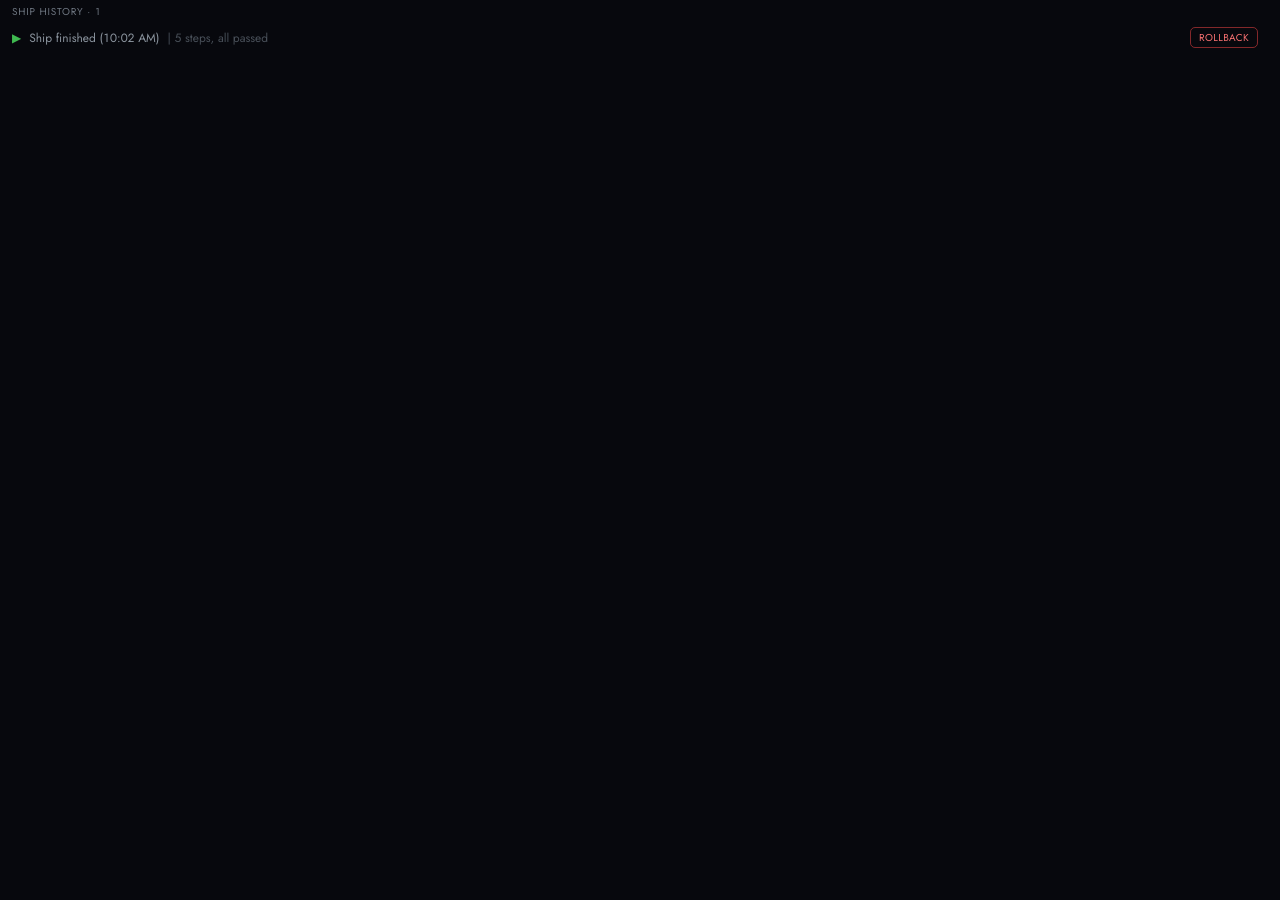
Test: Part XIII · 1 — drift confirm flow in OperationHistory › drift response reopens the modal (no stream) and the confirmed retry sends acknowledge_drift
Later steps or results of the test are not shown.
Note: First confirm (plain modal) → drift response.
Click the button with test id "op-history-rollback-btn-loopdrif".
click(1224, 38)  # box [1190,27,1258,48]
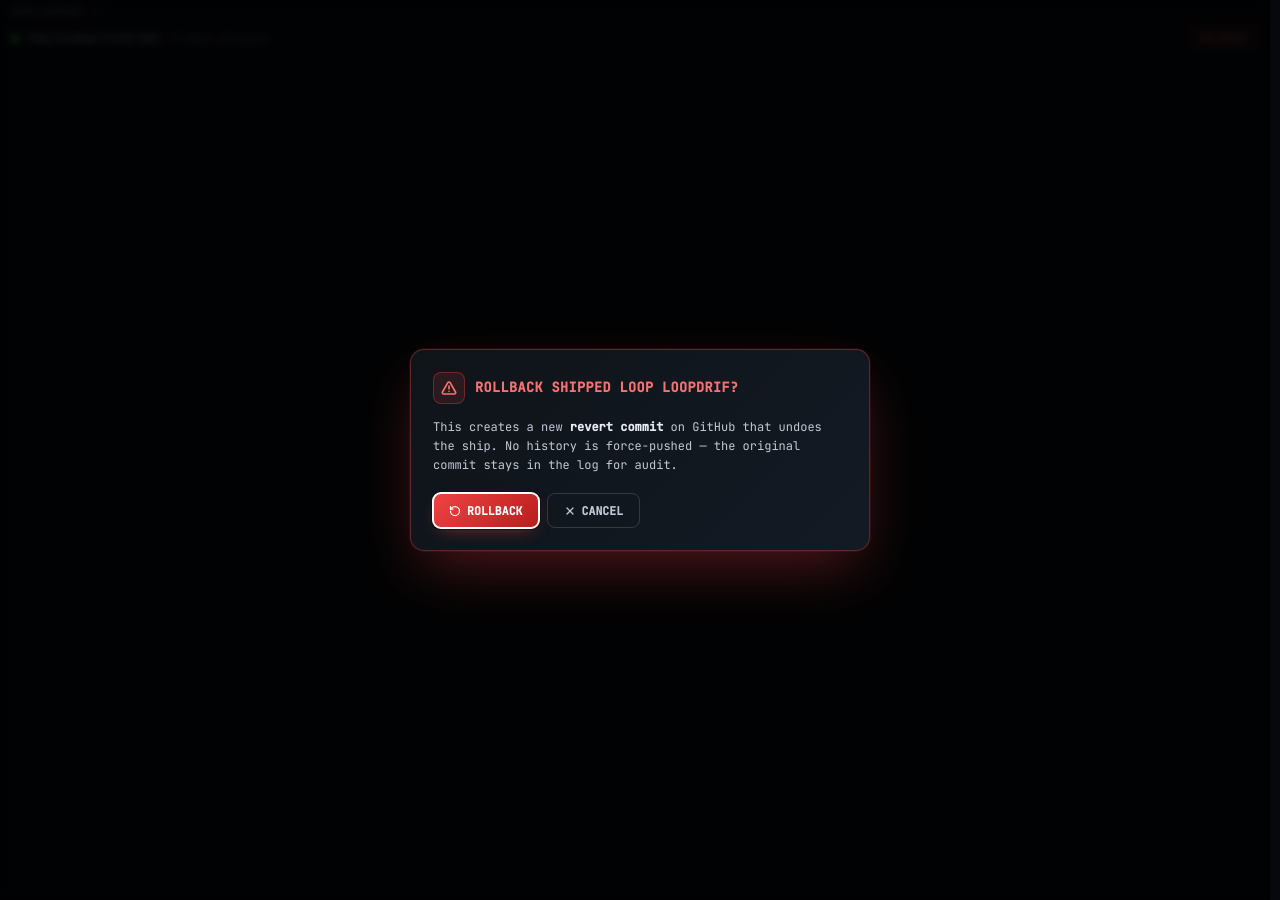
Check: the dialog with test id "rollback-confirm-modal" is shown
Click the button with test id "rollback-confirm-approve".
click(486, 511)  # box [433,493,538,528]
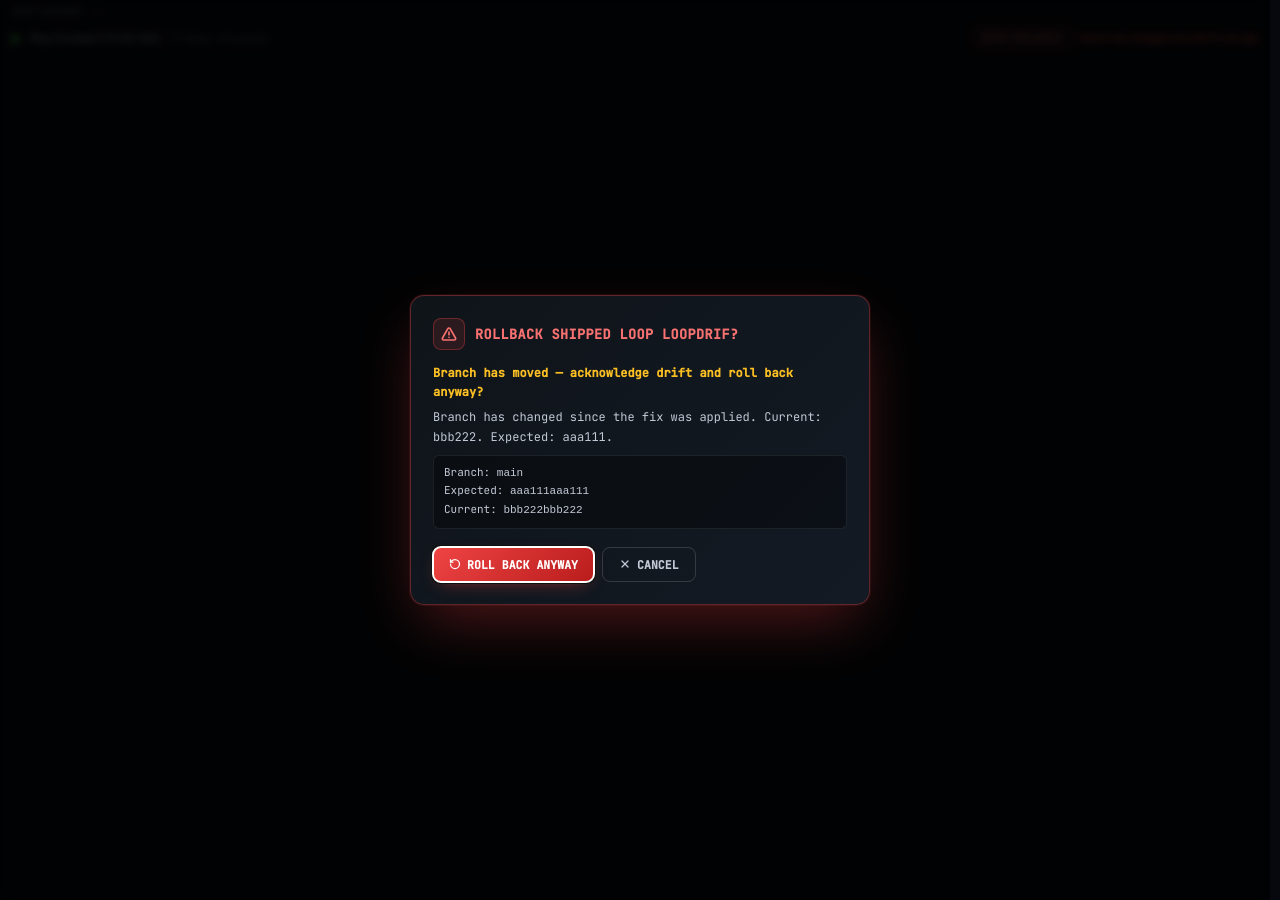
Check: the element with test id "rollback-confirm-drift-detail" is shown, box [433,364,847,529]
Check: the element with test id "rollback-confirm-drift-detail" shows "Branch has moved", box [433,365,793,400]
Check: the button with test id "rollback-confirm-approve" reads "Roll back anyway", box [433,547,594,582]
